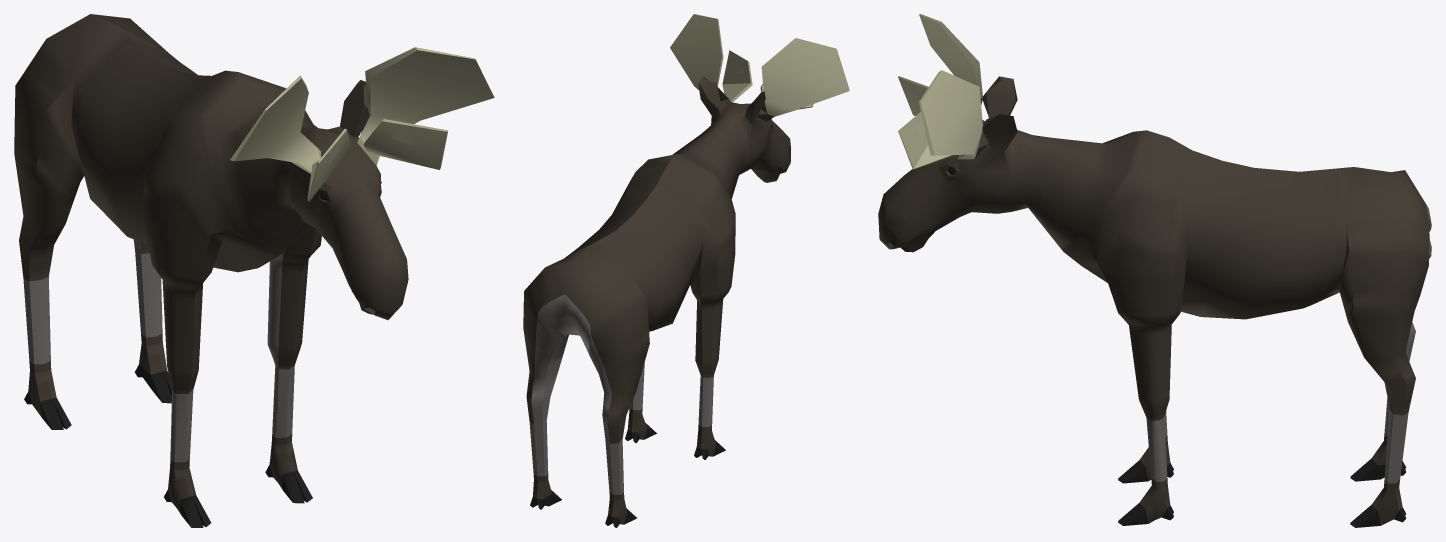
File: Moose.fbx
The picture shows the model from 3 angles, left to right: view 1: azimuth 30°, elevation 25°; view 2: azimuth 150°, elevation 25°; view 3: azimuth 270°, elevation 25°; orthographic projection. The views are drawn at different scales.
Parts seen in each view (by area): view 1: Moose_Mesh; view 2: Moose_Mesh; view 3: Moose_Mesh.
Part boxes in pixels (x1,y1,x2,y2): Moose_Mesh: (14,14,494,527); Moose_Mesh: (523,14,849,527); Moose_Mesh: (878,14,1431,527).
Bounding box in the file's own units: 104 × 200 × 220.
